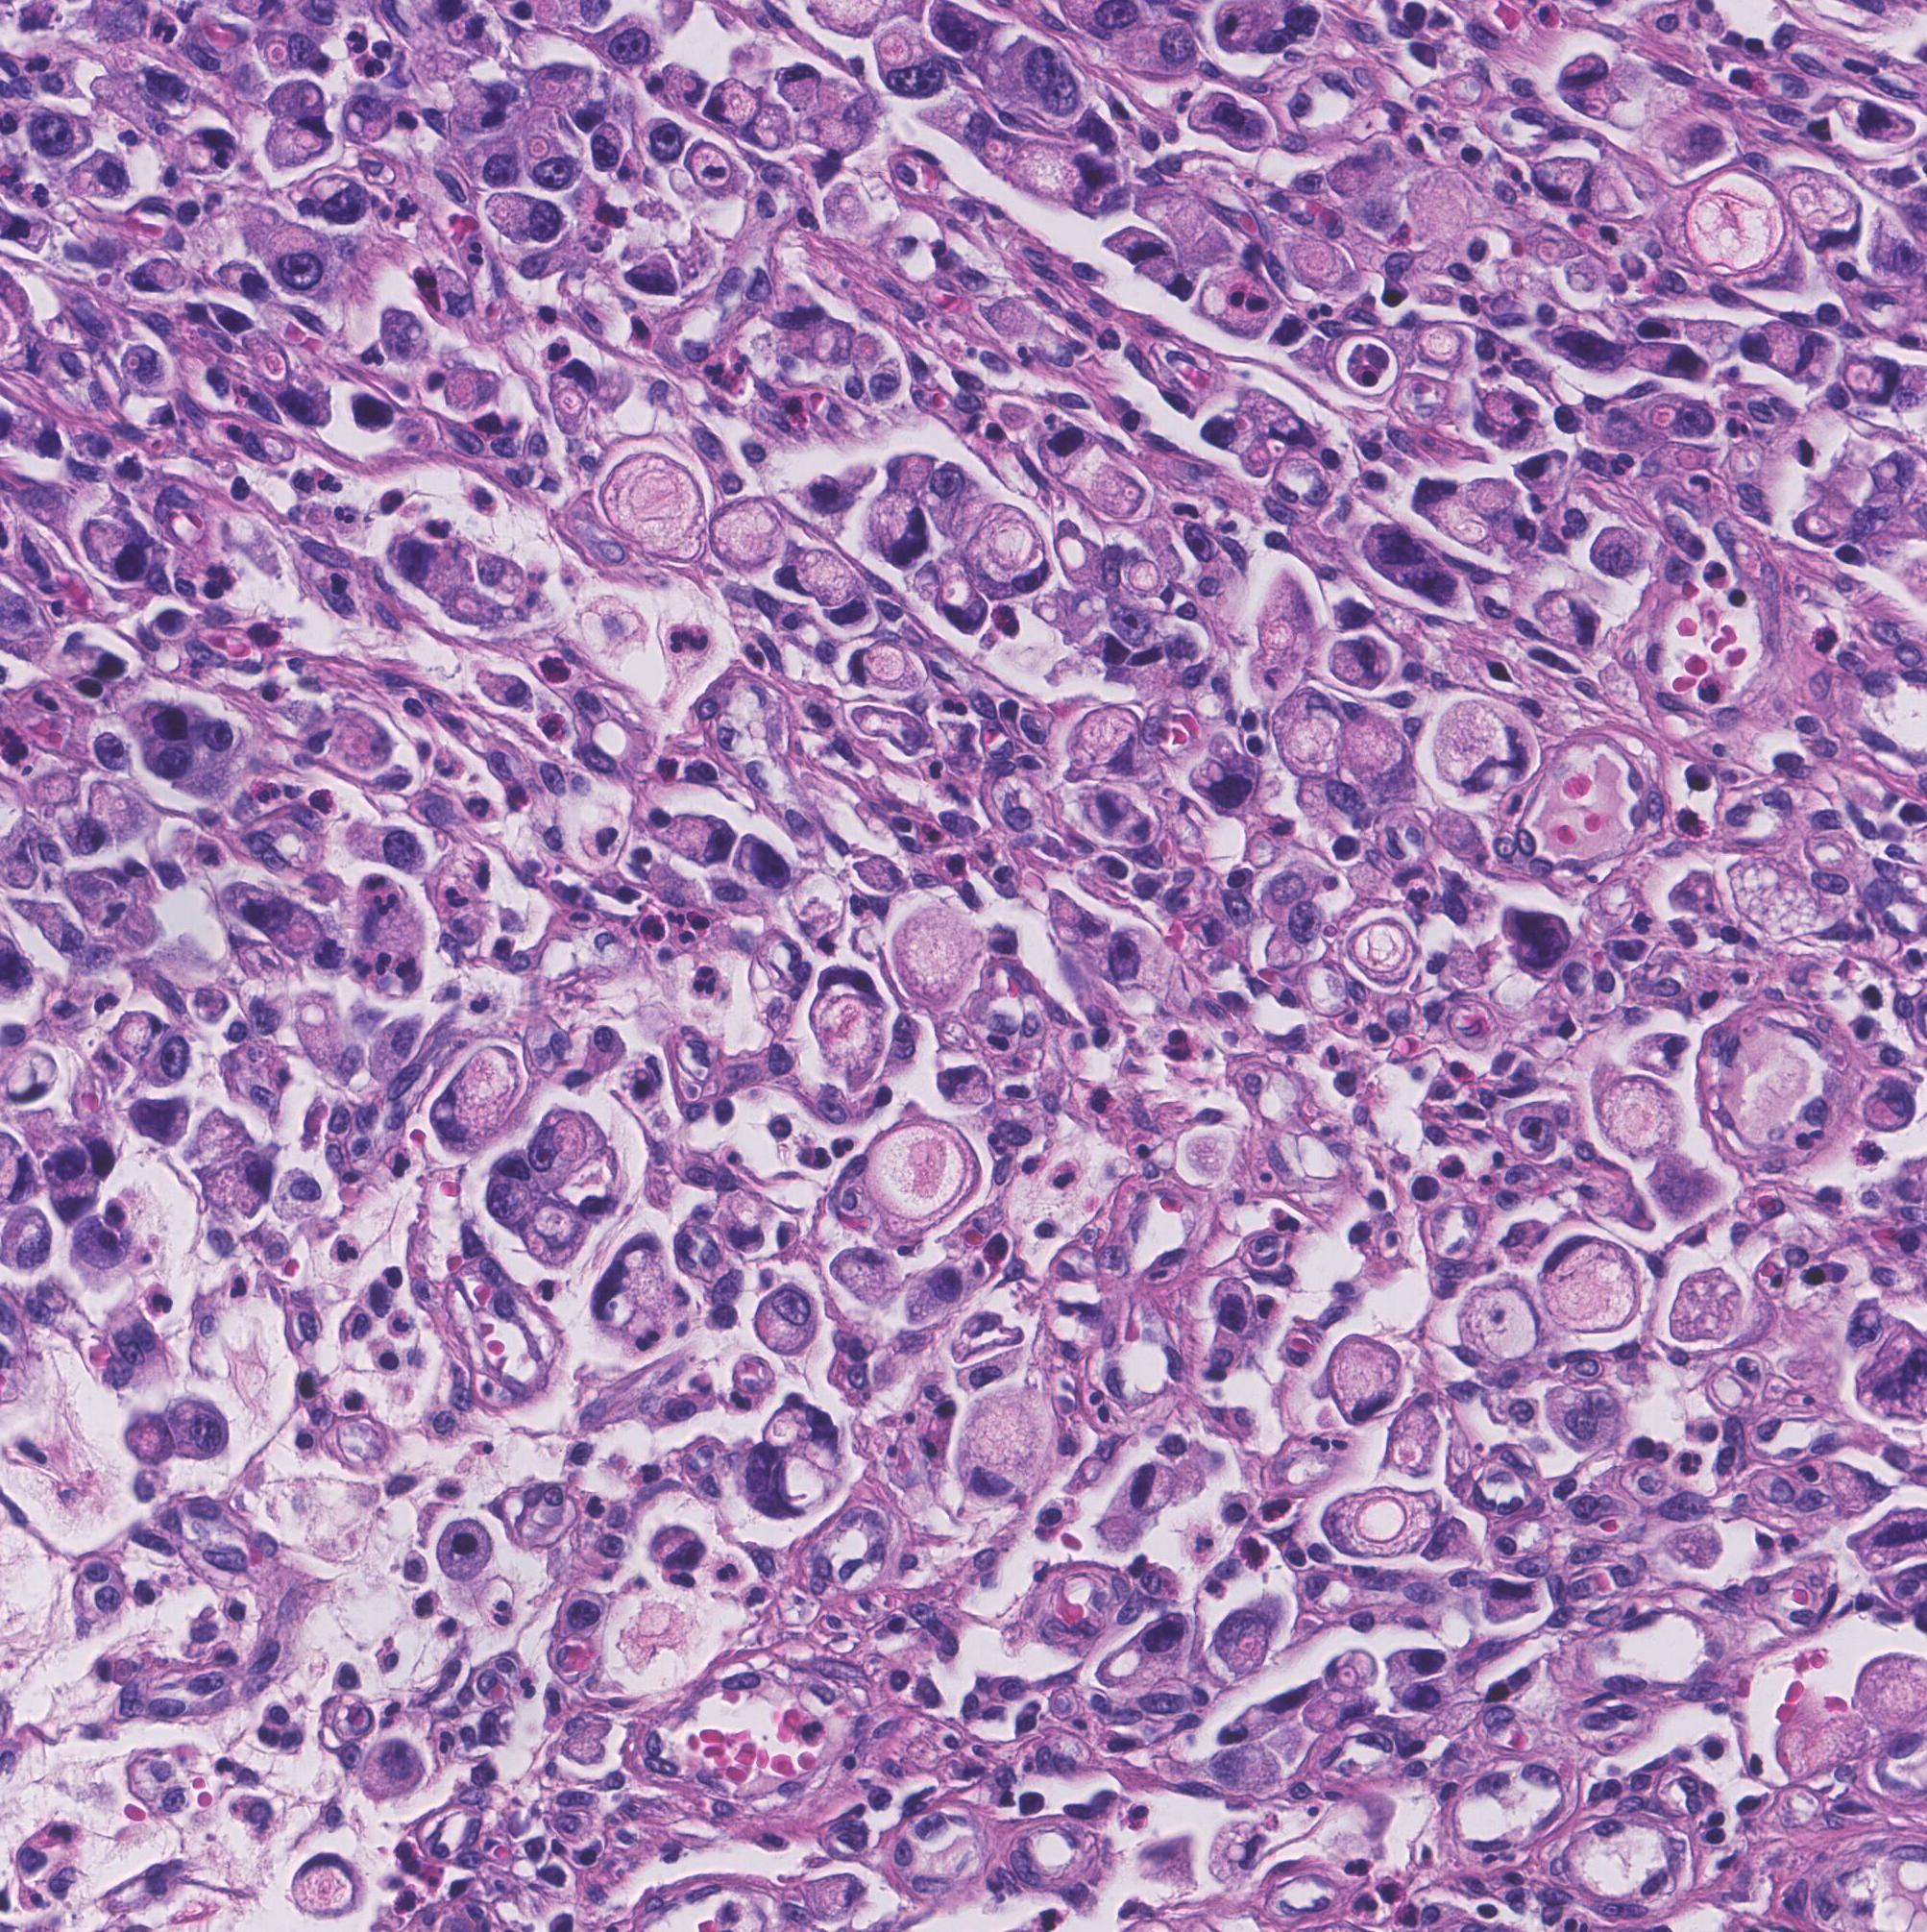ring_cell_cancer: (1541, 1235, 1646, 1344), (949, 1396, 1062, 1498), (1323, 1482, 1445, 1567), (808, 963, 886, 1089), (432, 1032, 517, 1147), (1435, 697, 1528, 798), (596, 1232, 676, 1346), (1006, 136, 1124, 212), (1001, 1819, 1115, 1897), (1458, 1279, 1544, 1374), (967, 510, 1055, 596), (1322, 1334, 1406, 1420), (1412, 473, 1512, 545), (739, 1447, 831, 1517), (1276, 690, 1346, 780), (482, 1145, 551, 1235), (1341, 711, 1415, 794), (798, 550, 874, 630), (1786, 173, 1862, 252), (76, 515, 159, 586), (528, 1110, 604, 1182), (326, 700, 399, 775), (1203, 1606, 1274, 1676), (286, 1856, 369, 1916), (1066, 708, 1142, 773), (762, 1392, 840, 1456), (554, 1154, 630, 1217), (524, 1200, 591, 1269), (1532, 588, 1601, 655), (1348, 923, 1421, 986), (709, 501, 776, 568), (164, 1394, 231, 1461), (831, 1244, 902, 1307), (750, 1290, 817, 1355), (875, 489, 930, 568), (665, 815, 745, 868), (547, 360, 604, 434), (266, 115, 332, 168), (69, 152, 136, 203), (932, 1059, 990, 1117), (935, 577, 993, 635), (1389, 1406, 1436, 1477), (1091, 469, 1152, 522), (1331, 637, 1394, 688), (1511, 452, 1574, 503), (1849, 353, 1902, 409), (648, 1521, 706, 1572), (180, 129, 242, 176), (339, 95, 394, 146), (1322, 1644, 1378, 1694), (1766, 323, 1814, 381), (526, 64, 591, 106), (109, 1011, 164, 1060), (1863, 1082, 1922, 1127), (706, 74, 755, 127), (1528, 159, 1586, 203), (1491, 512, 1542, 561), (655, 67, 708, 115), (475, 669, 533, 711), (1133, 1463, 1179, 1514), (776, 65, 824, 113), (1632, 1030, 1685, 1073), (819, 104, 866, 150), (129, 256, 182, 296), (884, 452, 934, 492), (1484, 390, 1535, 429), (454, 101, 512, 134), (1795, 503, 1837, 549), (64, 817, 106, 859), (4, 852, 39, 887)
